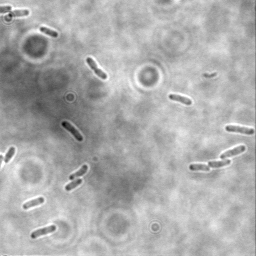Dividing: (86, 56, 108, 81), (225, 123, 255, 136), (168, 93, 194, 106)
Rod: (60, 120, 84, 142), (219, 144, 247, 160), (30, 224, 57, 240), (68, 162, 89, 182), (23, 196, 46, 211), (64, 177, 84, 192), (40, 26, 60, 39), (188, 162, 211, 173), (4, 145, 17, 164), (208, 158, 231, 168), (8, 9, 30, 18)
